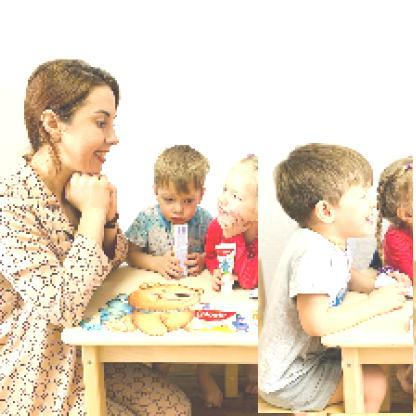child: (259, 142, 415, 415), (204, 155, 297, 291), (126, 144, 215, 282)
